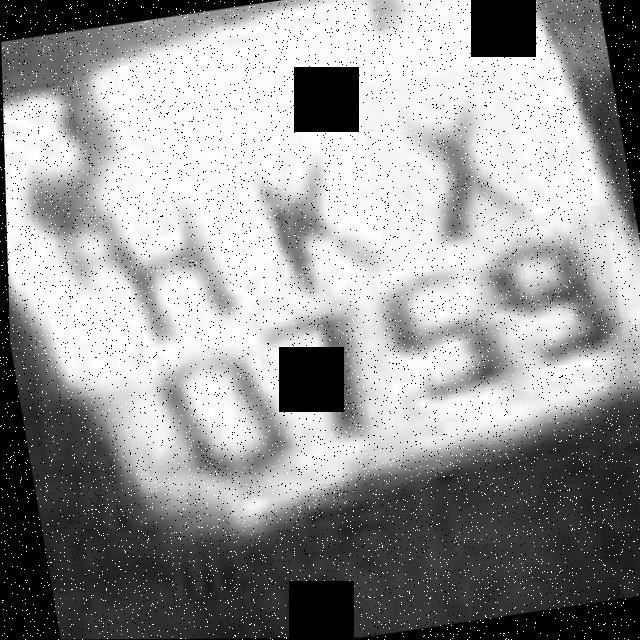0: (133, 321, 311, 509)
5: (366, 243, 510, 410)
7: (247, 282, 398, 452)
9: (457, 205, 625, 377)
H: (75, 167, 245, 351)
X: (355, 64, 538, 265)
